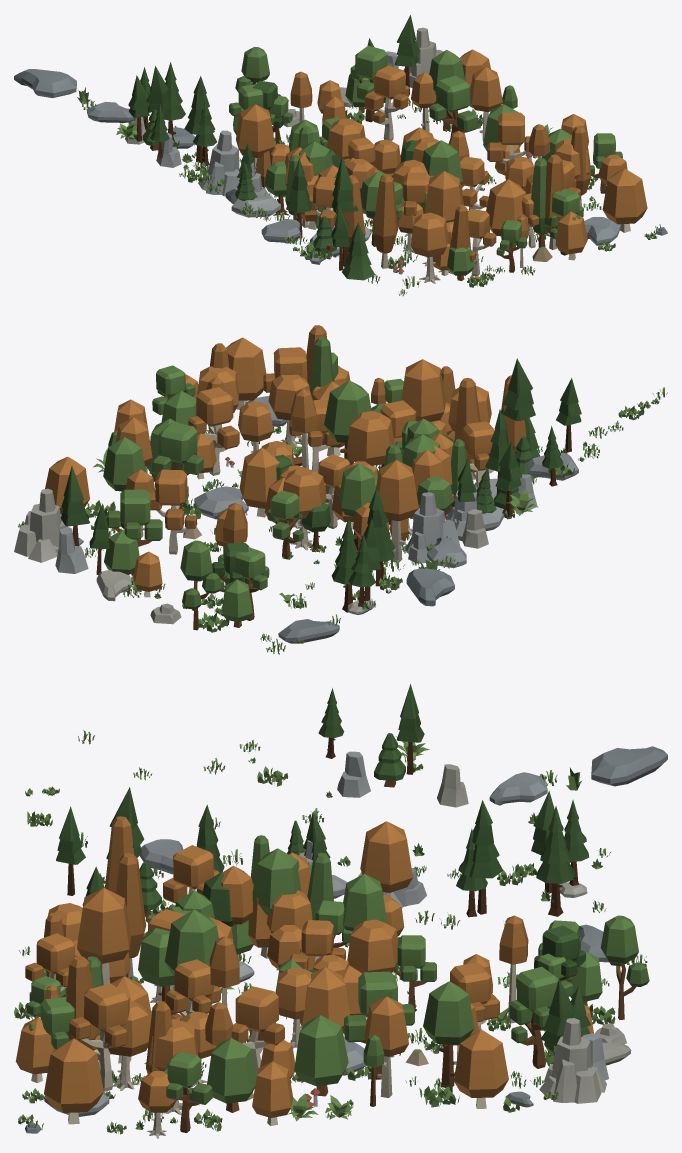
Rendered from cell_x1_z-2_render.gltf.
3 views of the same model, one above another, from view 1: azimuth 30°, elevation 25°; view 2: azimuth 150°, elevation 25°; view 3: azimuth 270°, elevation 25° (orthographic). The views are drawn at different scales.
Parts seen in each view (by area): view 1: cell_x1_z-2; view 2: cell_x1_z-2; view 3: cell_x1_z-2.
Boxes of the visible parts, x1,y1,x2,y2 form: cell_x1_z-2: (14, 15, 667, 296); cell_x1_z-2: (14, 325, 667, 654); cell_x1_z-2: (14, 684, 667, 1138).
Bounding box in the file's own units: 42.94 × 15.09 × 42.58.
